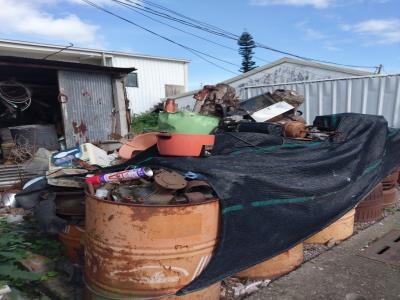bottle: (98, 163, 154, 186)
bowl: (151, 131, 219, 158)
bucket: (80, 187, 225, 294)
plastic_bag: (224, 134, 366, 205)
